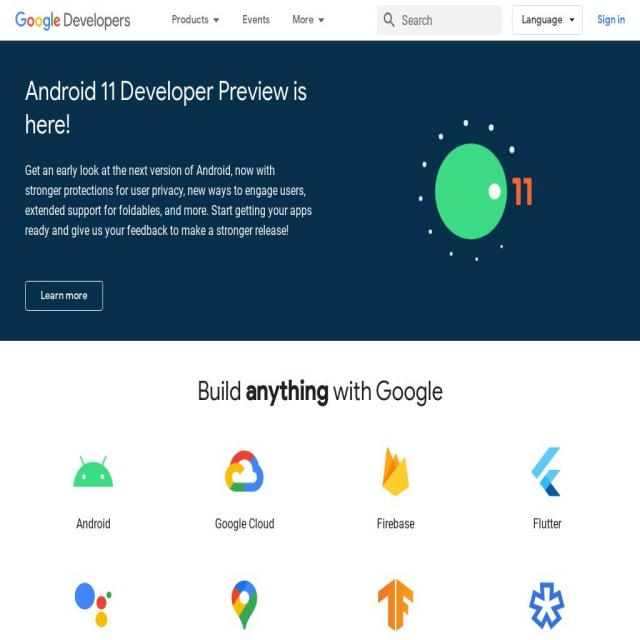language: (515, 2, 587, 33)
login-option: (591, 7, 630, 35)
navigation-blocks: (50, 407, 595, 638)
navigation-links: (169, 7, 341, 28)
search: (381, 5, 511, 40)
